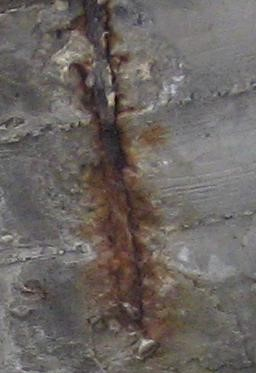Exposed reinforcement: (84, 1, 143, 321)
